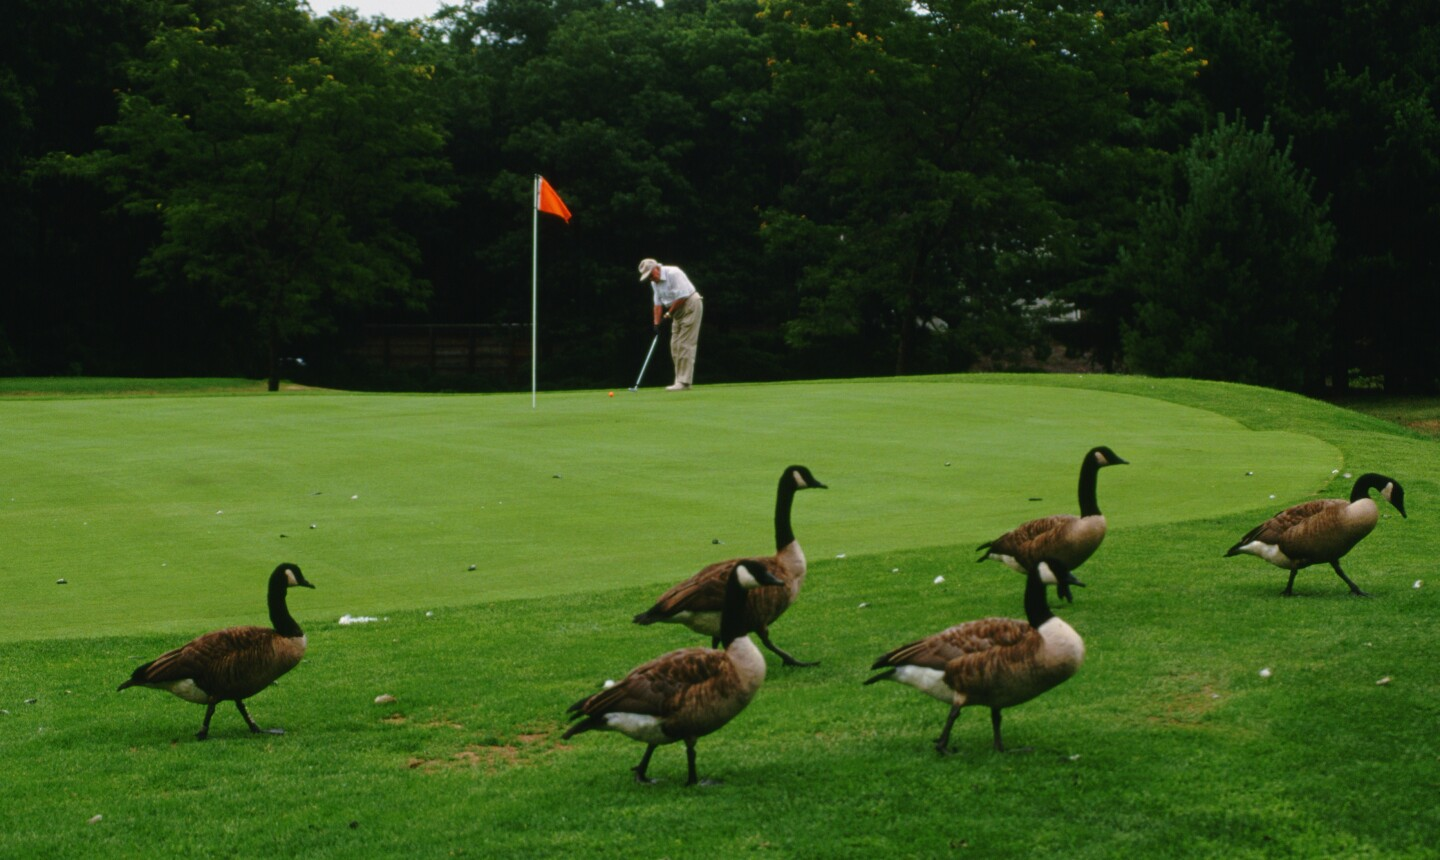goose: (869, 561, 1094, 752), (110, 561, 331, 744), (1221, 468, 1421, 612)
